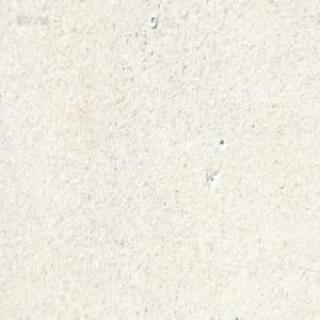Washertrack_idkeyframe: (148, 12, 156, 27)
